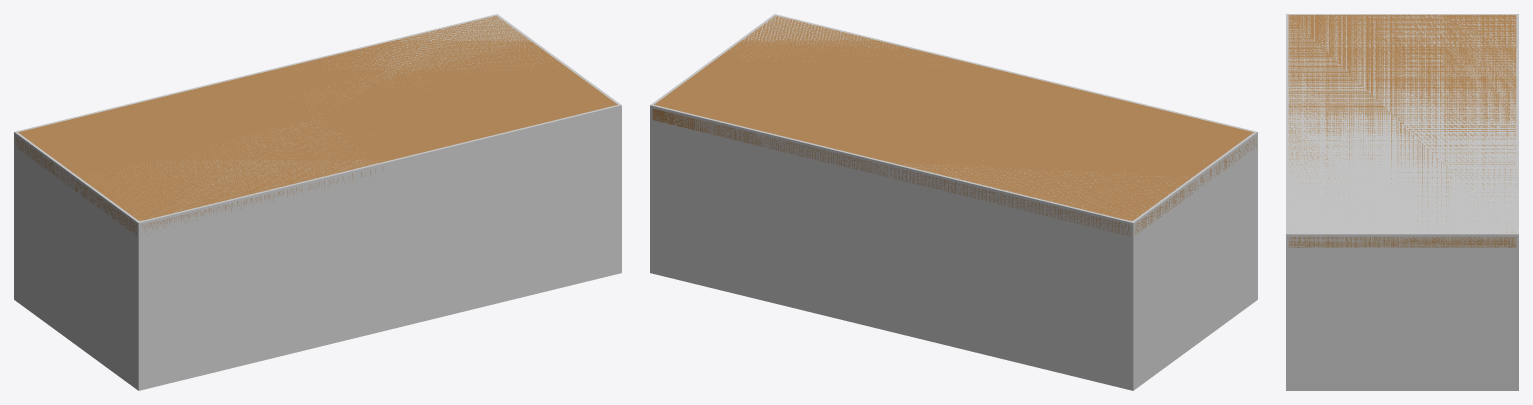
The model's file is conference-table_commercial.glb.
The picture shows the model from 3 angles, left to right: view 1: azimuth 30°, elevation 25°; view 2: azimuth 150°, elevation 25°; view 3: azimuth 270°, elevation 25°; orthographic projection. The views are drawn at different scales.
Visible parts, largest first — view 1: COL_conference-table, MESH_Top; view 2: COL_conference-table, MESH_Top; view 3: COL_conference-table, MESH_Top.
Boxes of the visible parts, bbox=[...] form: COL_conference-table: bbox=[14, 14, 621, 390]; MESH_Top: bbox=[15, 16, 617, 235]; COL_conference-table: bbox=[650, 14, 1257, 390]; MESH_Top: bbox=[652, 15, 1256, 235]; COL_conference-table: bbox=[1286, 14, 1518, 390]; MESH_Top: bbox=[1288, 15, 1516, 247].
Bounding box in the file's own units: 2.35 × 0.78 × 1.05.
